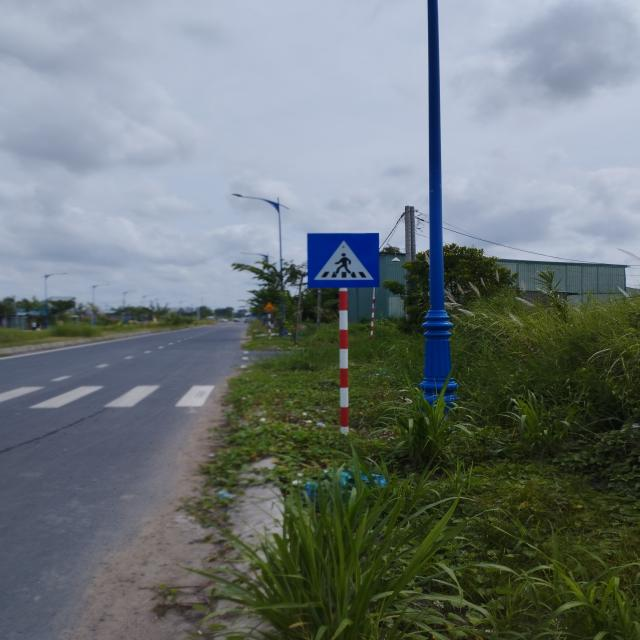Giao_Nhau_Duong_Uu_Tien: (308, 232, 380, 288)
